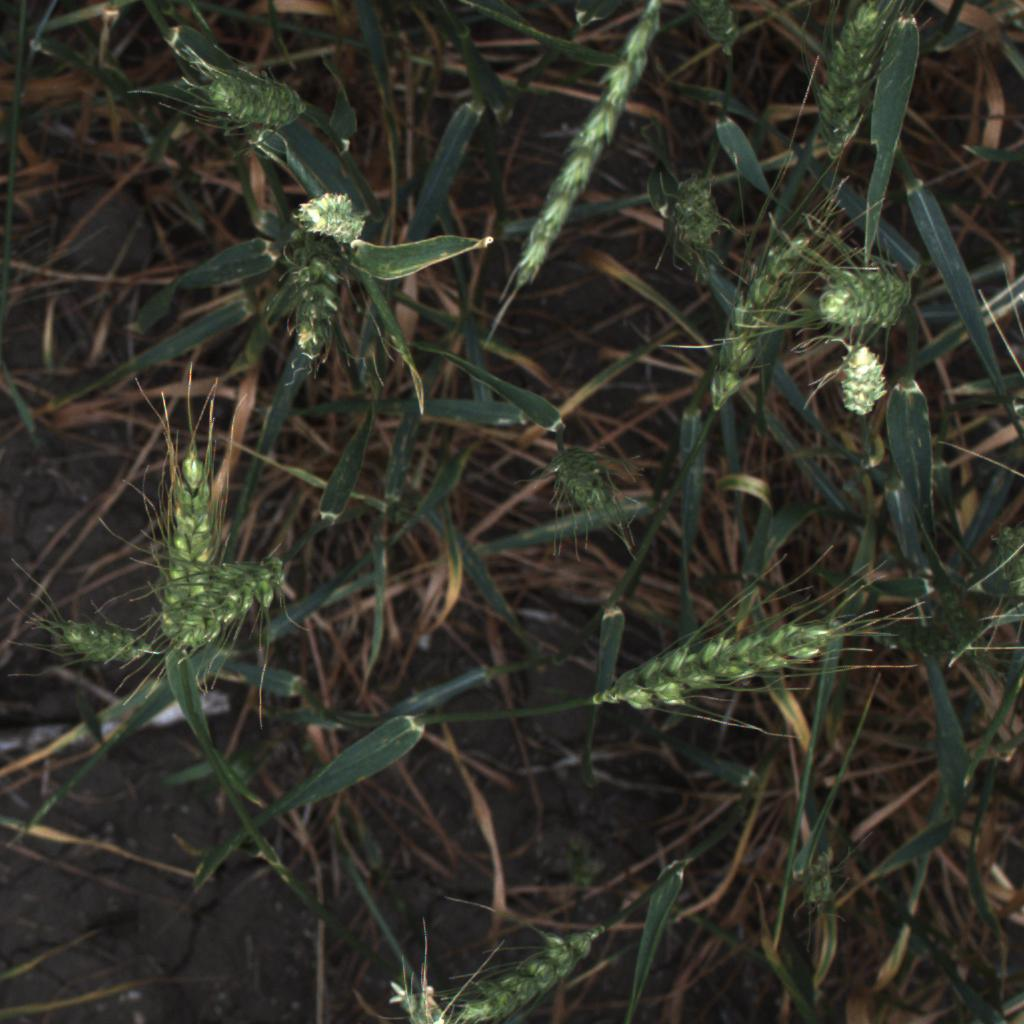0-0: (490, 0, 661, 310), (588, 611, 831, 726), (155, 435, 238, 698), (698, 231, 808, 428), (794, 0, 911, 160), (164, 541, 303, 657), (459, 917, 612, 1020), (799, 242, 932, 352), (173, 51, 314, 147), (261, 241, 346, 372), (643, 158, 743, 268), (50, 607, 168, 676), (543, 444, 619, 519), (291, 182, 367, 254), (835, 332, 892, 418), (385, 973, 464, 1024), (684, 5, 744, 61)
